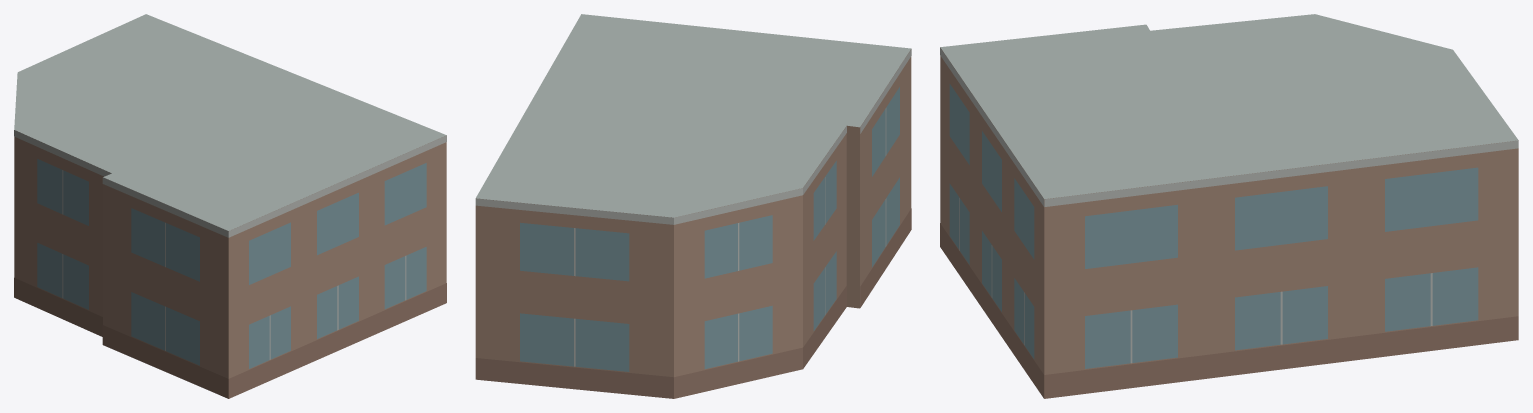
File: survey-upis-32910904.glb
The picture shows the model from 3 angles, left to right: view 1: azimuth 30°, elevation 25°; view 2: azimuth 150°, elevation 25°; view 3: azimuth 270°, elevation 25°; orthographic projection. The views are drawn at different scales.
Visible parts, largest first — view 1: survey-upis-32910904.tmp; view 2: survey-upis-32910904.tmp; view 3: survey-upis-32910904.tmp.
Part boxes in pixels (<box>): survey-upis-32910904.tmp: <box>14,14,446,398</box>; survey-upis-32910904.tmp: <box>475,14,911,398</box>; survey-upis-32910904.tmp: <box>940,14,1518,398</box>.
Bounding box in the file's own units: 12.14 × 6.1 × 16.03.
